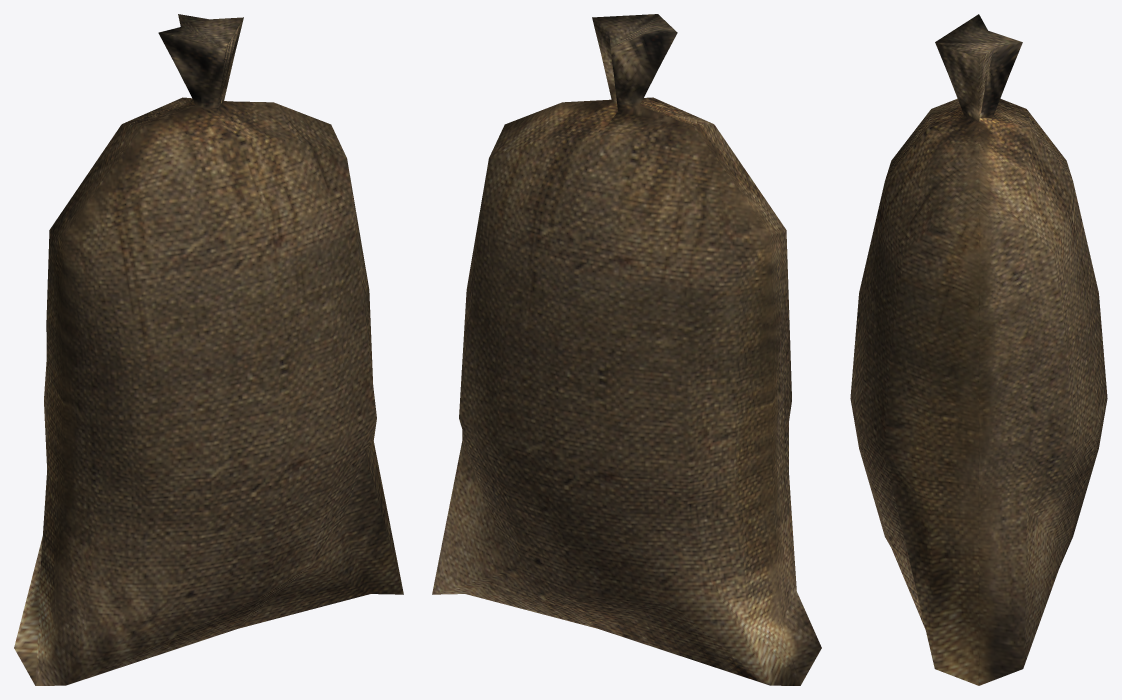
File: sandbag04.FBX
The picture shows the model from 3 angles, left to right: view 1: azimuth 30°, elevation 25°; view 2: azimuth 150°, elevation 25°; view 3: azimuth 270°, elevation 25°; orthographic projection. The views are drawn at different scales.
Visible parts, largest first — view 1: sandbag04; view 2: sandbag04; view 3: sandbag04.
Part boxes in pixels (<box>): sandbag04: <box>14,14,403,685</box>; sandbag04: <box>432,14,821,685</box>; sandbag04: <box>850,14,1107,685</box>.
Size of the model in its own units: 66.61 by 112 by 45.38.
Materials: 1 (1 with a texture image).
